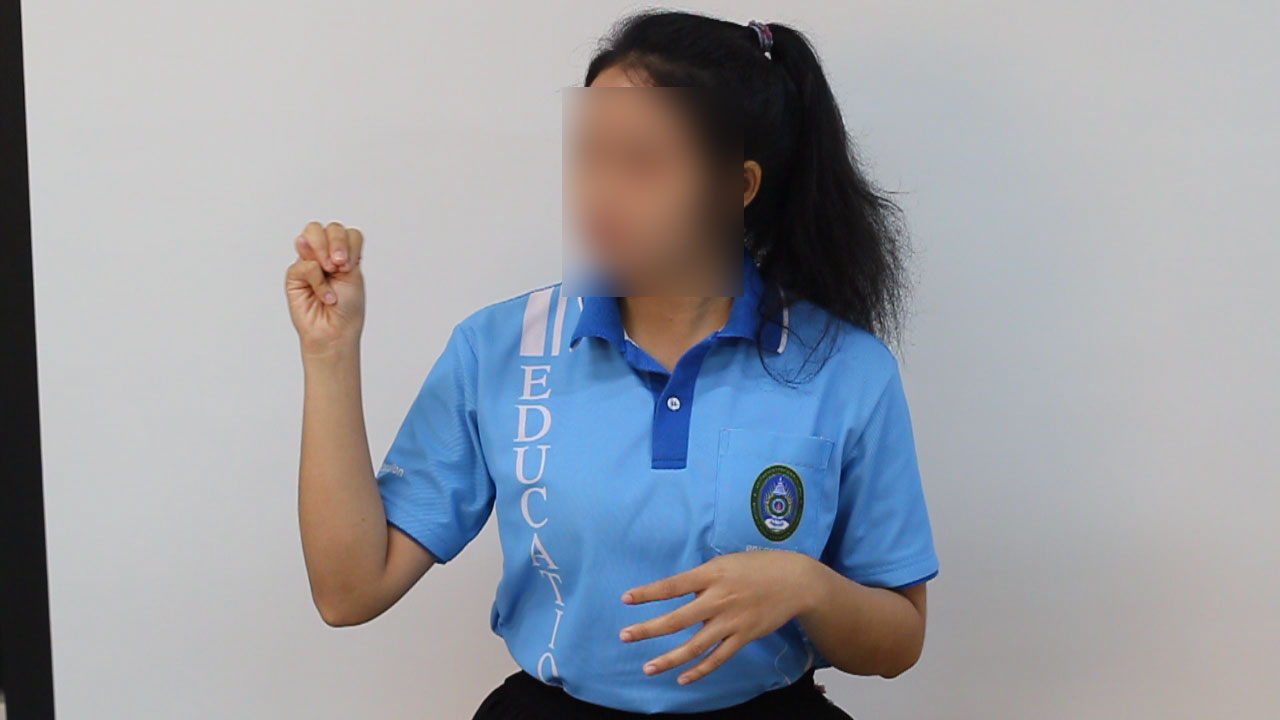mor: (262, 200, 398, 369)
